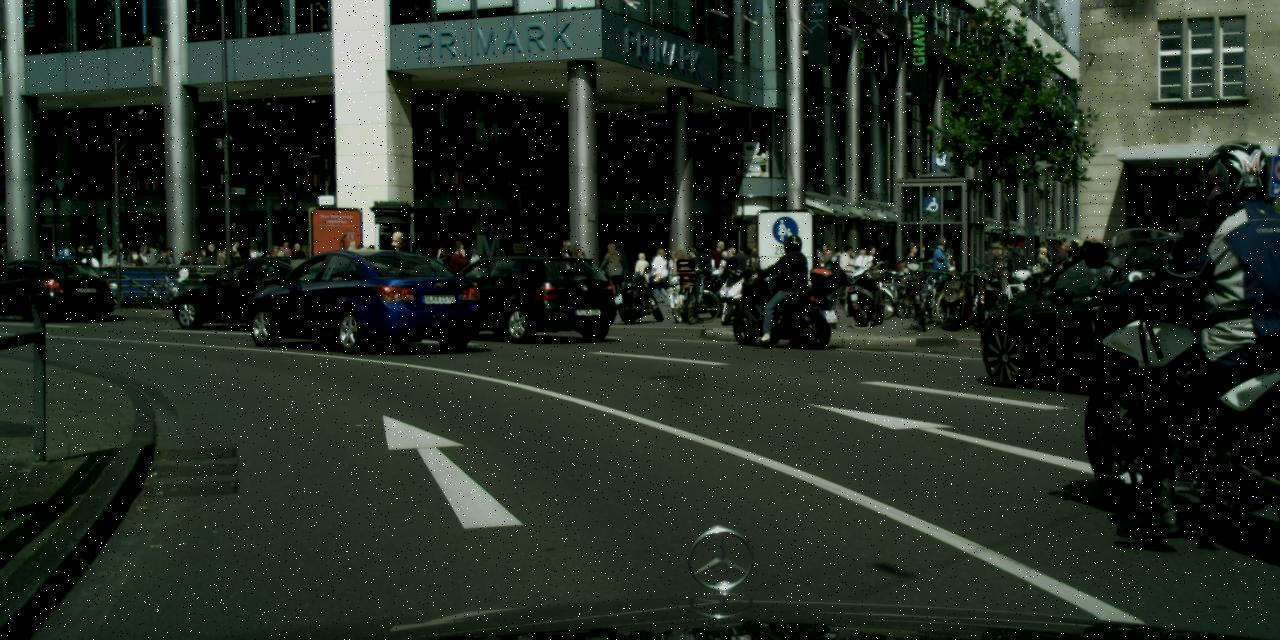ped: (1164, 139, 1278, 509), (600, 240, 758, 308), (766, 234, 807, 334), (814, 242, 878, 281), (130, 241, 224, 265), (413, 239, 483, 270), (900, 245, 923, 303), (1036, 237, 1080, 265), (72, 242, 116, 267), (261, 238, 311, 260), (931, 237, 958, 272), (552, 238, 588, 257), (352, 245, 367, 282), (364, 245, 379, 281), (982, 242, 1004, 266), (497, 249, 511, 285), (1009, 240, 1023, 270), (233, 238, 244, 261), (121, 241, 128, 266)
